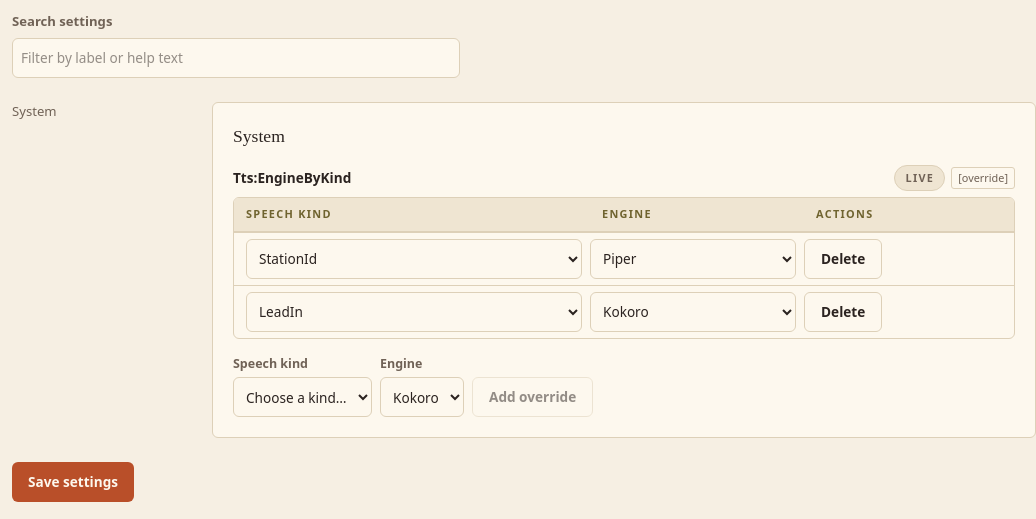
Scenario: Feature: Tts:EngineByKind staging rides the dirty-pill pattern › Scenario: the unsaved-changes badge tracks the staged map › appears when an override is deleted
The width and height of the screenshot is (1036, 519).
Click the button with aria-label "Delete override 2".
click(843, 312)  # box [804, 292, 882, 332]
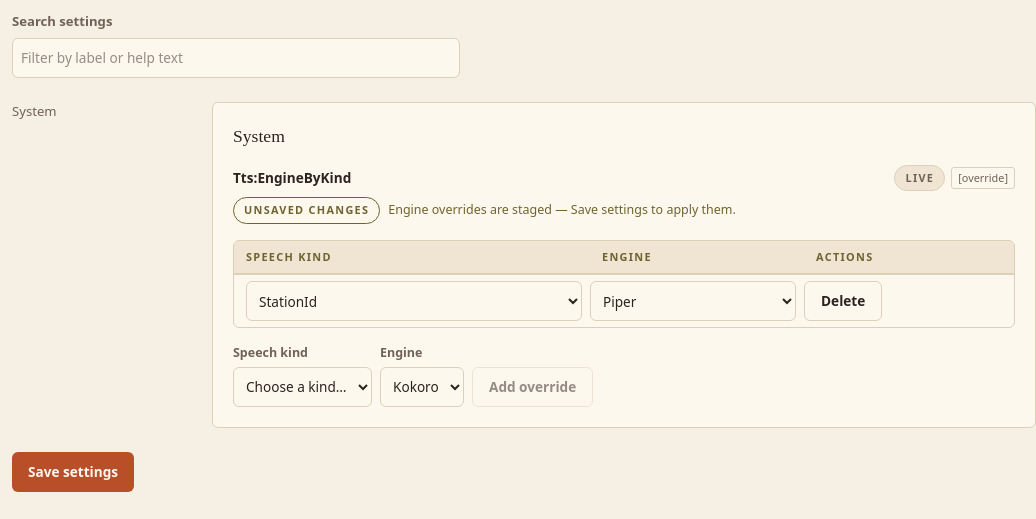
Check: the message with test id "engine-by-kind-dirty-notice" shows "Unsaved changes", box [244, 202, 369, 217]
